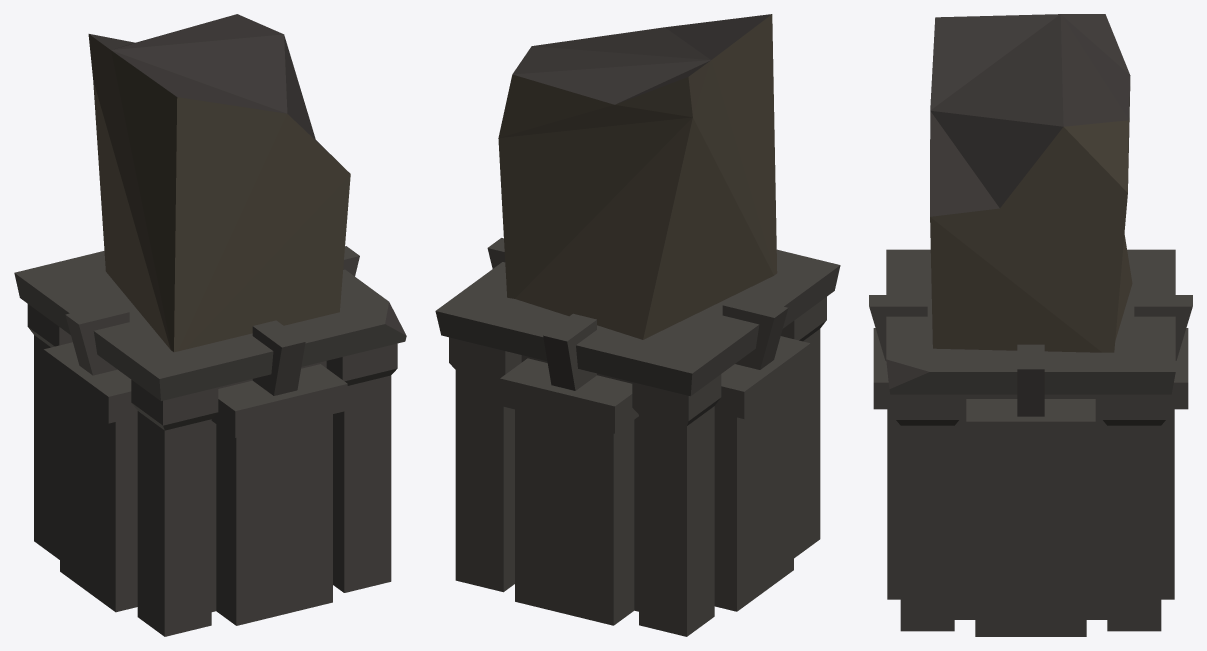
Rendered from Pillar_1D_LOD.fbx.
3 views of the same model, side by side, from view 1: azimuth 30°, elevation 25°; view 2: azimuth 150°, elevation 25°; view 3: azimuth 270°, elevation 25° (orthographic). The views are drawn at different scales.
Parts seen in each view (by area): view 1: polySurface1343; view 2: polySurface1343; view 3: polySurface1343.
Part boxes in pixels (<box>): polySurface1343: <box>14,14,406,636</box>; polySurface1343: <box>435,14,840,636</box>; polySurface1343: <box>869,14,1192,636</box>.
Size of the model in its own units: 2.04 by 3.61 by 2.04.
